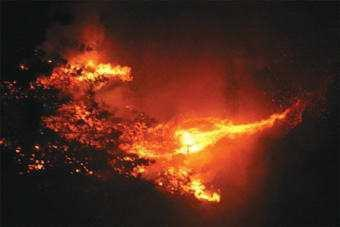fire: (169, 112, 287, 153), (54, 52, 133, 87), (185, 177, 221, 205), (127, 143, 158, 160)
